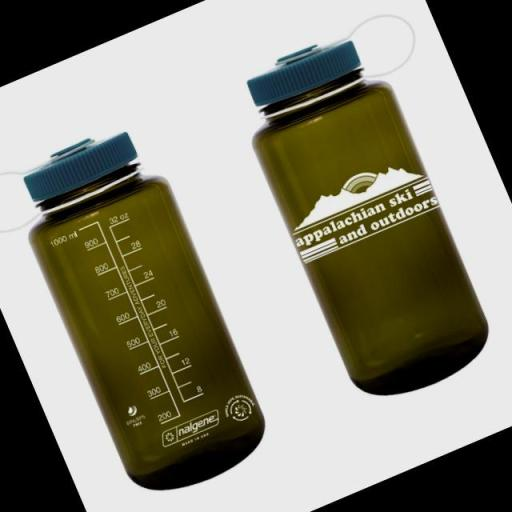bottle: (218, 0, 512, 417), (0, 112, 284, 512)
